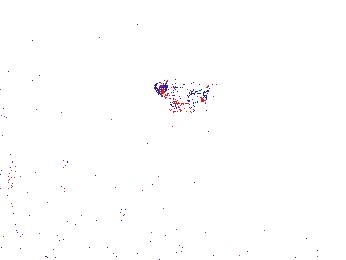red belly glassfish: (168, 86, 215, 116)
redtail glassfish: (151, 75, 211, 101)
